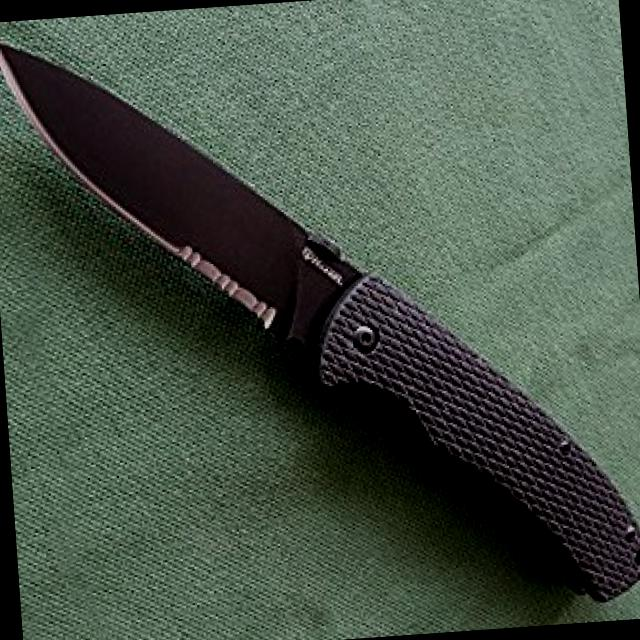knife: (0, 3, 381, 383)
